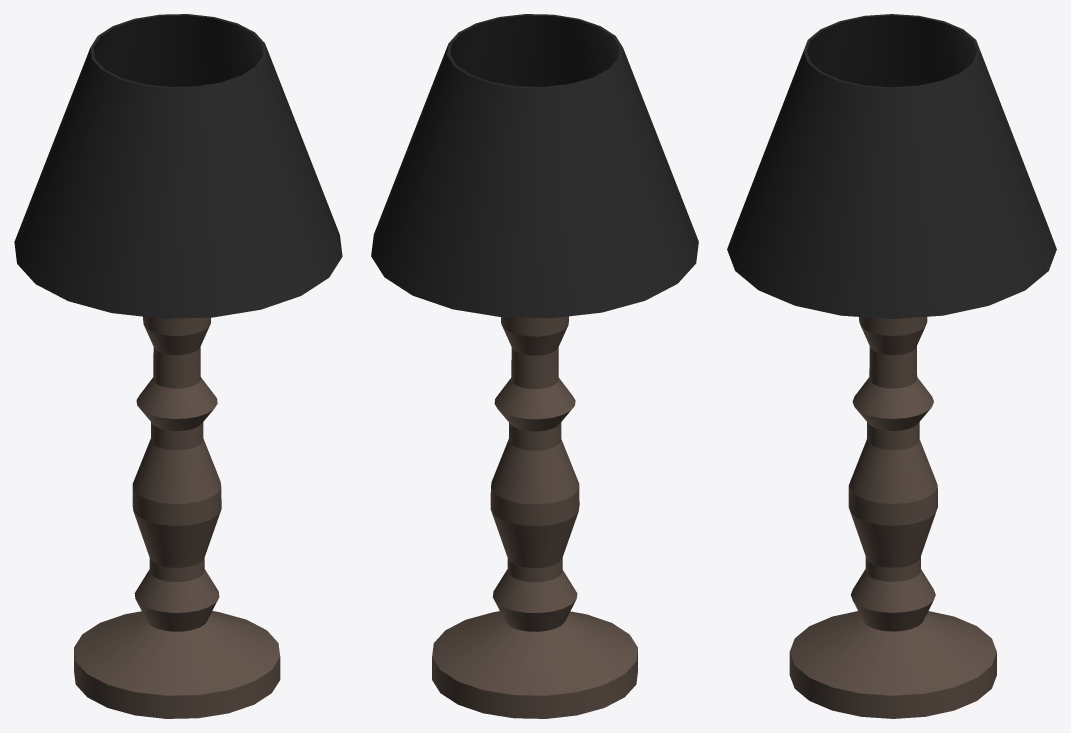
Rendered from LampeChevet1_5.fbx.
3 renders of one model, left to right at view 1: azimuth 30°, elevation 25°; view 2: azimuth 150°, elevation 25°; view 3: azimuth 270°, elevation 25°, orthographic.
Parts seen in each view (by area): view 1: pPipe38, pCylinder230; view 2: pPipe38, pCylinder230; view 3: pPipe38, pCylinder230.
Part boxes in pixels (left/top/right/bottom): pPipe38: left=14, top=14, right=342, bottom=318; pCylinder230: left=74, top=316, right=280, bottom=718; pPipe38: left=371, top=14, right=698, bottom=318; pCylinder230: left=432, top=316, right=637, bottom=718; pPipe38: left=727, top=14, right=1056, bottom=318; pCylinder230: left=789, top=316, right=996, bottom=718.
Size of the model in its own units: 15.07 by 31.45 by 15.07.
